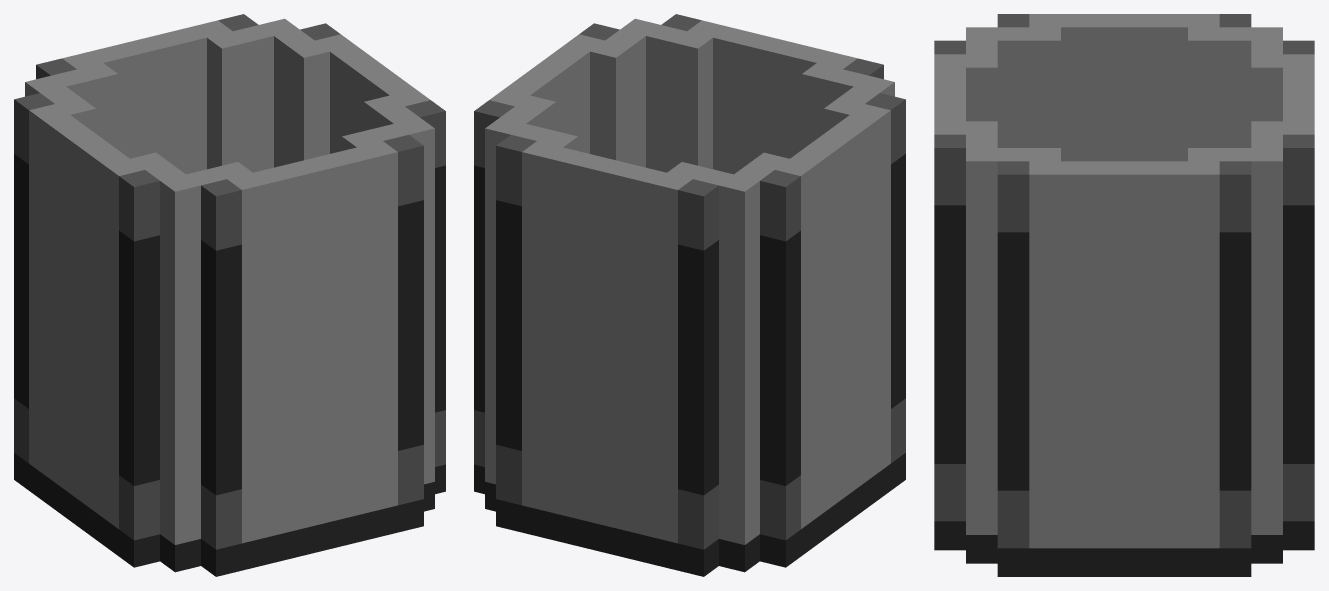
The model's file is trashcan-1.obj.
The picture shows the model from 3 angles, left to right: view 1: azimuth 30°, elevation 25°; view 2: azimuth 150°, elevation 25°; view 3: azimuth 270°, elevation 25°; orthographic projection. The views are drawn at different scales.
Size of the model in its own units: 1.2 by 1.4 by 1.2.
Materials: 1 (1 with a texture image).
